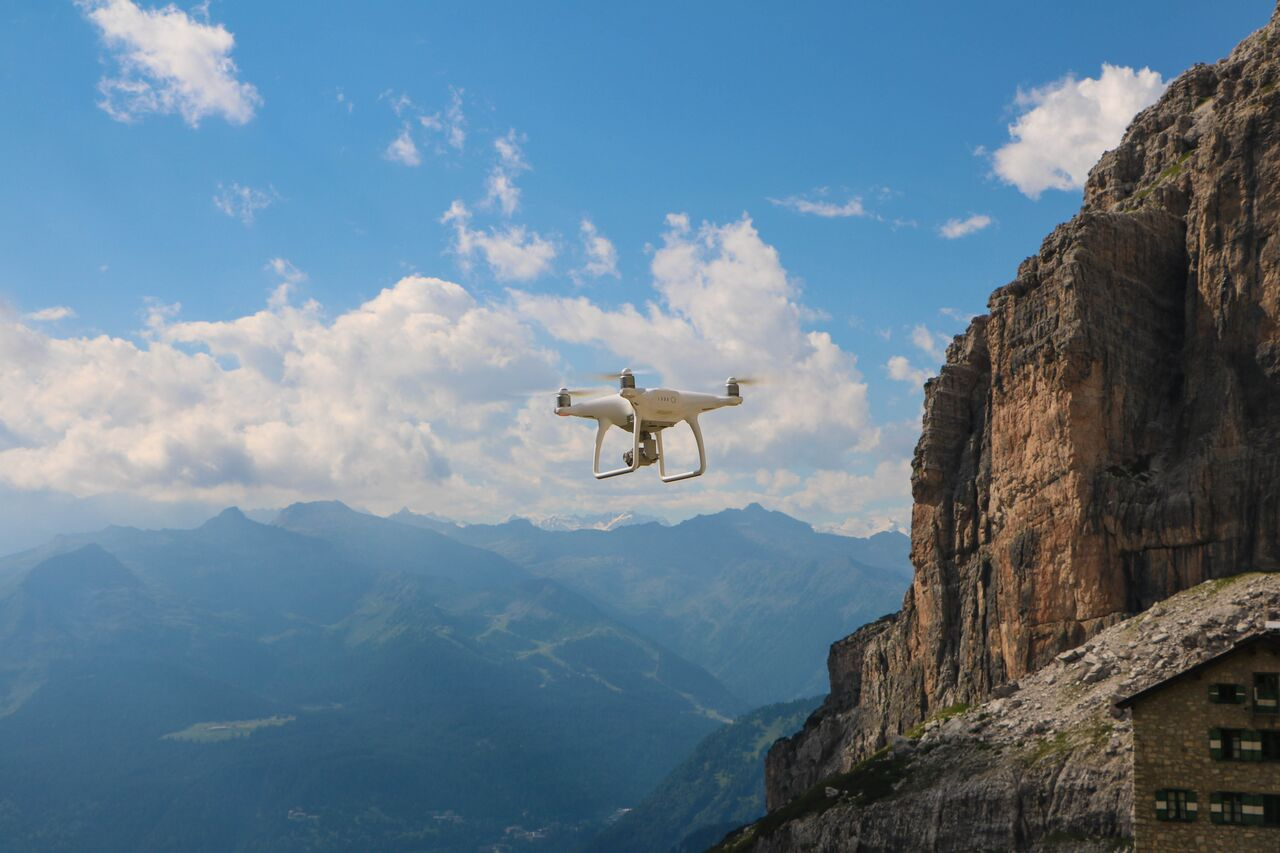drone: (517, 364, 780, 487)
